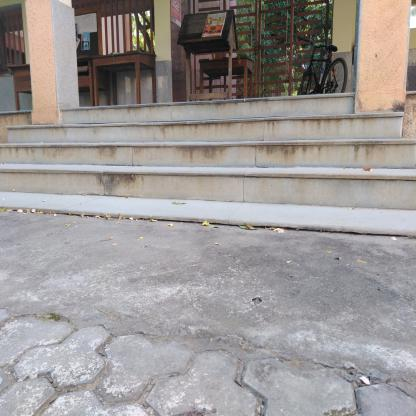stairs: (65, 101, 355, 200)
